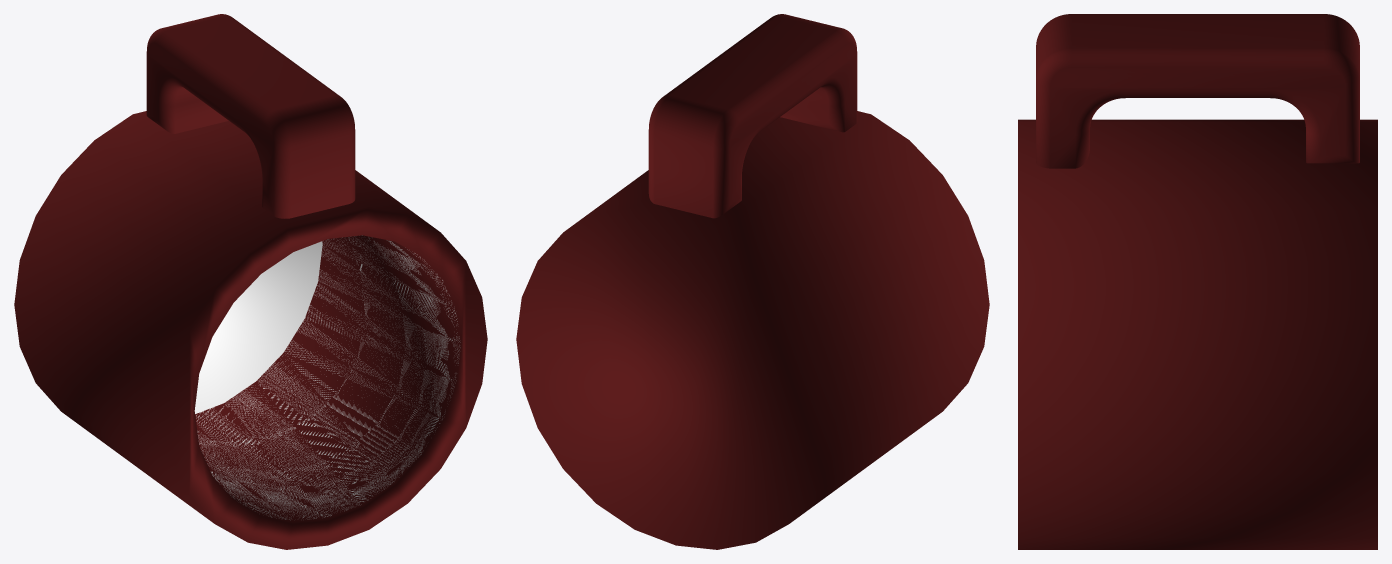
Rendered from model_scale.obj.
3 renders of one model, left to right at view 1: azimuth 30°, elevation 25°; view 2: azimuth 150°, elevation 25°; view 3: azimuth 270°, elevation 25°, orthographic. The views are drawn at different scales.
Visible parts, largest first — view 1: mesh2_mesh2-geometry, mesh1_mesh1-geometry; view 2: mesh2_mesh2-geometry, mesh1_mesh1-geometry; view 3: mesh2_mesh2-geometry, mesh1_mesh1-geometry.
Boxes of the visible parts, x1,y1,x2,y2 form: mesh2_mesh2-geometry: (14, 111, 487, 549); mesh1_mesh1-geometry: (146, 14, 355, 218); mesh2_mesh2-geometry: (516, 111, 989, 549); mesh1_mesh1-geometry: (648, 14, 857, 218); mesh2_mesh2-geometry: (1018, 119, 1377, 549); mesh1_mesh1-geometry: (1036, 14, 1359, 168).
Size of the model in its own units: 0.0914 by 0.1166 by 0.0762.
